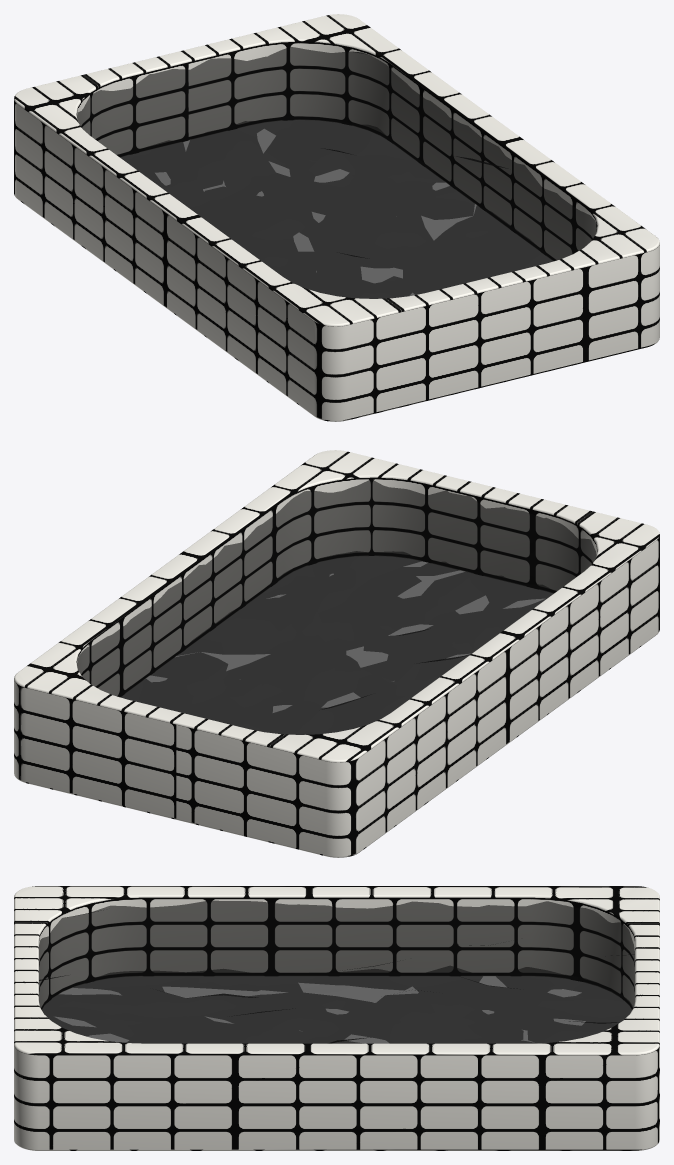
Rendered from Pool.fbx.
3 renders of one model, top to bottom at view 1: azimuth 30°, elevation 25°; view 2: azimuth 150°, elevation 25°; view 3: azimuth 270°, elevation 25°, orthographic.
Visible parts, largest first — view 1: Pool_Out_in, Cube_10, Pool__Floor; view 2: Pool_Out_in, Cube_10, Pool__Floor; view 3: Pool_Out_in, Cube_10, Pool__Floor.
Boxes of the visible parts, x1,y1,x2,y2 form: Pool_Out_in: (14,14,659,421); Cube_10: (77,47,596,298); Pool__Floor: (122,120,552,298); Pool_Out_in: (14,450,659,857); Cube_10: (77,479,596,734); Pool__Floor: (121,556,551,734); Pool_Out_in: (14,886,659,1150); Cube_10: (39,900,634,1043); Pool__Floor: (42,976,631,1043).
Bounding box in the file's own units: 110 × 30.45 × 179.
Materials: 2 (1 with a texture image).
